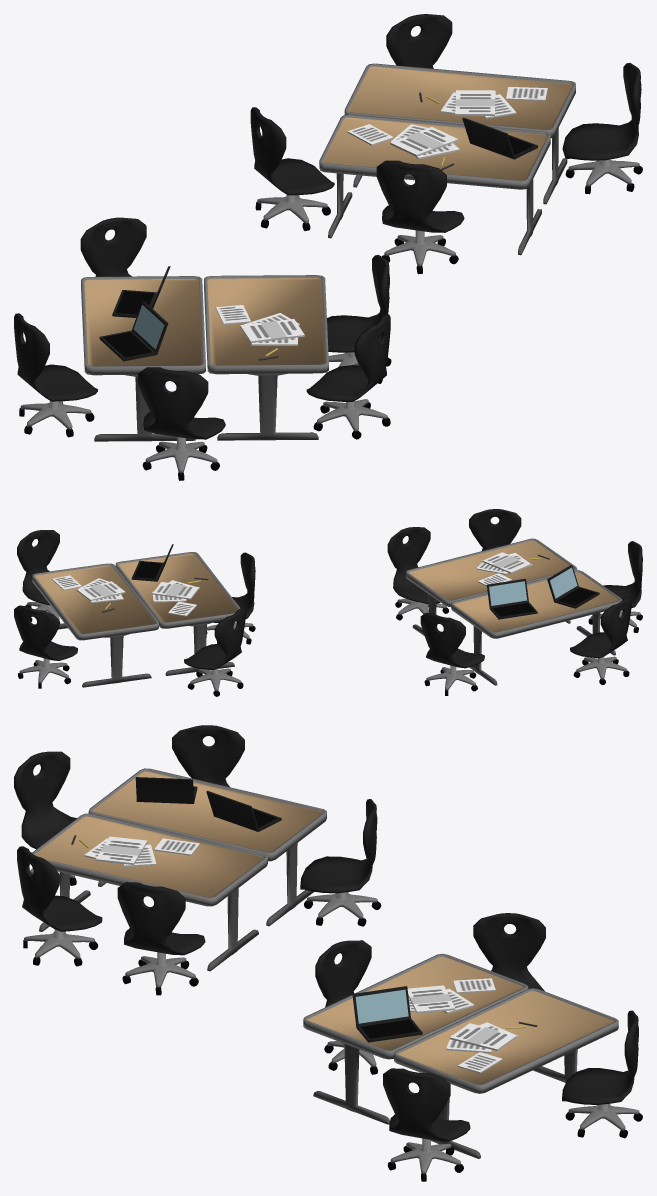
File: d-roomcomp-d-studentClub-in.glb
The picture shows the model from 3 angles, top to bottom: view 1: azimuth 30°, elevation 25°; view 2: azimuth 150°, elevation 25°; view 3: azimuth 270°, elevation 25°; orthographic projection. The views are drawn at different scales.
Parts seen in each view (by area): view 1: officeDesk.006, officeDesk.003, officeDesk.005, officeDesk.004, officeChair.005, officeChair.008, officeChair.004, officeChair.009, officeChair.006, officeChair.011, officeChair.007, officeChair.010 (+7 smaller); view 2: officeDesk.003, officeDesk.004, officeDesk.005, officeDesk.006, officeChair.007, officeChair.010, officeChair.009, officeChair.003, officeChair.006, officeChair.011, officeChair.004, laptop.003 (+7 smaller); view 3: officeDesk.003, officeDesk.006, officeDesk.005, officeDesk.004, officeChair.003, officeChair.011, officeChair.004, officeChair.010, officeChair.007, officeChair.005, officeChair.009, officeChair.006 (+7 smaller).
Boxes of the visible parts, bbox=[...] form: officeDesk.006: bbox=[204, 275, 328, 440]; officeDesk.003: bbox=[344, 63, 575, 204]; officeDesk.005: bbox=[81, 276, 205, 441]; officeDesk.004: bbox=[319, 114, 550, 255]; officeChair.005: bbox=[138, 367, 225, 480]; officeChair.008: bbox=[376, 160, 464, 274]; officeChair.004: bbox=[306, 314, 390, 439]; officeChair.009: bbox=[250, 107, 334, 230]; officeChair.006: bbox=[14, 313, 97, 437]; officeChair.011: bbox=[562, 63, 642, 194]; officeChair.007: bbox=[80, 217, 146, 276]; officeChair.010: bbox=[386, 14, 452, 68]; officeDesk.003: bbox=[32, 563, 158, 687]; officeDesk.004: bbox=[115, 552, 240, 675]; officeDesk.005: bbox=[451, 570, 622, 685]; officeDesk.006: bbox=[406, 538, 577, 635]; officeChair.007: bbox=[420, 612, 484, 695]; officeChair.010: bbox=[14, 605, 77, 688]; officeChair.009: bbox=[184, 608, 245, 696]; officeChair.003: bbox=[387, 527, 448, 620]; officeChair.006: bbox=[570, 596, 631, 684]; officeChair.011: bbox=[17, 530, 60, 623]; officeChair.004: bbox=[469, 509, 521, 551]; laptop.003: bbox=[487, 578, 537, 619]; officeDesk.003: bbox=[394, 988, 618, 1158]; officeDesk.006: bbox=[32, 813, 267, 971]; officeDesk.005: bbox=[88, 768, 326, 926]; officeDesk.004: bbox=[303, 953, 528, 1124]; officeChair.003: bbox=[117, 882, 205, 995]; officeChair.011: bbox=[383, 1068, 470, 1181]; officeChair.004: bbox=[17, 846, 102, 966]; officeChair.010: bbox=[562, 1010, 642, 1138]; officeChair.007: bbox=[300, 799, 381, 926]; officeChair.005: bbox=[14, 751, 76, 885]; officeChair.009: bbox=[473, 913, 545, 991]; officeChair.006: bbox=[172, 725, 244, 787].
Bounding box in the file's own units: 9.07 × 1.27 × 6.81.
2 materials, 2 textured.
